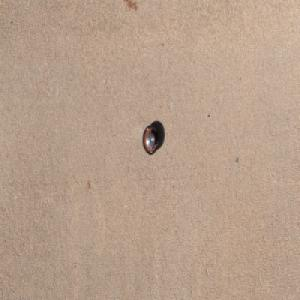FuelCap: (142, 123, 159, 155)
